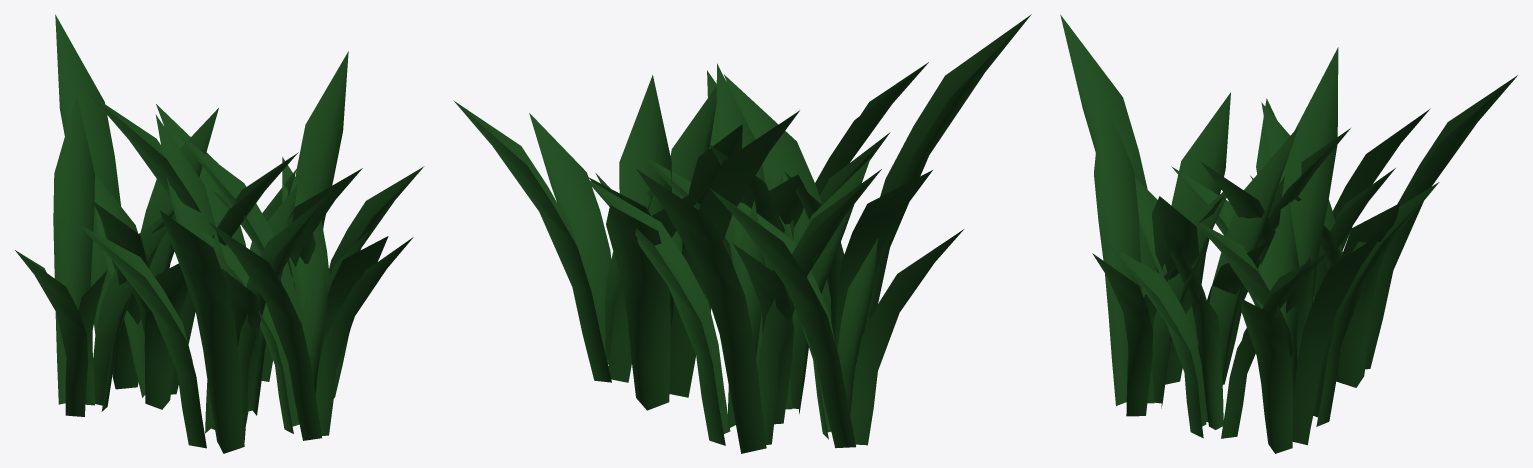
File: Medium Grass Cluster.fbx
3 renders of one model, left to right at view 1: azimuth 30°, elevation 25°; view 2: azimuth 150°, elevation 25°; view 3: azimuth 270°, elevation 25°, orthographic. The views are drawn at different scales.
Parts seen in each view (by area): view 1: pasted__pasted__pPlane1 (×7), pasted__pasted__pasted__pPlane1 (×7), pasted__pasted__pasted__pasted__pPlane1 (×6), pasted__pPlane1 (×4), pasted__pasted__pasted__pasted__pasted__pPlane1 (×4), pPlane1, pasted__pasted__pasted__pasted__pasted__pasted__pPlane1; view 2: pasted__pasted__pasted__pasted__pPlane1 (×6), pasted__pasted__pasted__pPlane1 (×6), pasted__pasted__pPlane1 (×7), pasted__pasted__pasted__pasted__pasted__pPlane1 (×4), pasted__pPlane1 (×4), pasted__pasted__pasted__pasted__pasted__pasted__pPlane1, pPlane1; view 3: pasted__pasted__pasted__pPlane1 (×8), pasted__pasted__pPlane1 (×7), pasted__pasted__pasted__pasted__pPlane1 (×5), pasted__pPlane1 (×4), pasted__pasted__pasted__pasted__pasted__pPlane1 (×3), pPlane1, pasted__pasted__pasted__pasted__pasted__pasted__pPlane1 (×2).
Boxes of the visible parts, x1=… form: pasted__pasted__pPlane1 (×7): x1=53, y1=95, x2=424, y2=453; pasted__pasted__pasted__pPlane1 (×7): x1=55, y1=14, x2=413, y2=448; pasted__pasted__pasted__pasted__pPlane1 (×6): x1=15, y1=104, x2=388, y2=442; pasted__pPlane1 (×4): x1=171, y1=51, x2=348, y2=440; pasted__pasted__pasted__pasted__pasted__pPlane1 (×4): x1=78, y1=168, x2=362, y2=433; pPlane1: x1=155, y1=114, x2=215, y2=243; pasted__pasted__pasted__pasted__pasted__pasted__pPlane1: x1=250, y1=168, x2=296, y2=249; pasted__pasted__pasted__pasted__pPlane1 (×6): x1=584, y1=74, x2=963, y2=445; pasted__pasted__pasted__pPlane1 (×6): x1=608, y1=110, x2=932, y2=453; pasted__pasted__pPlane1 (×7): x1=529, y1=14, x2=1031, y2=448; pasted__pasted__pasted__pasted__pasted__pPlane1 (×4): x1=619, y1=75, x2=881, y2=444; pasted__pPlane1 (×4): x1=453, y1=62, x2=928, y2=382; pasted__pasted__pasted__pasted__pasted__pasted__pPlane1: x1=727, y1=200, x2=765, y2=428; pPlane1: x1=710, y1=145, x2=784, y2=273; pasted__pasted__pasted__pPlane1 (×8): x1=1092, y1=47, x2=1517, y2=438; pasted__pasted__pPlane1 (×7): x1=1060, y1=14, x2=1430, y2=453; pasted__pasted__pasted__pasted__pPlane1 (×5): x1=1107, y1=98, x2=1439, y2=438; pasted__pPlane1 (×4): x1=1094, y1=93, x2=1384, y2=445; pasted__pasted__pasted__pasted__pasted__pPlane1 (×3): x1=1192, y1=102, x2=1342, y2=429; pPlane1: x1=1223, y1=128, x2=1350, y2=384; pasted__pasted__pasted__pasted__pasted__pasted__pPlane1 (×2): x1=1286, y1=226, x2=1341, y2=362.
Size of the model in its own units: 2.71 by 1.97 by 2.68.
